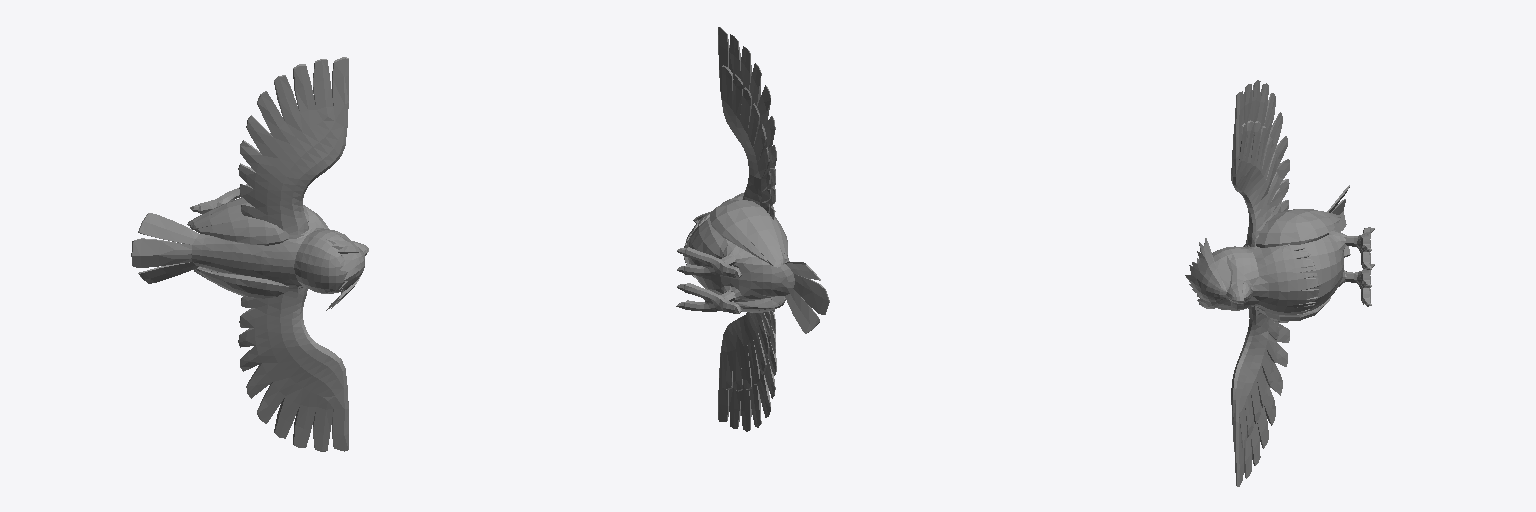
File: Pidgey.obj
3 views of the same model, side by side, from view 1: azimuth 30°, elevation 25°; view 2: azimuth 150°, elevation 25°; view 3: azimuth 270°, elevation 25° (orthographic).
Visible parts, largest first — view 1: Pidgey.002; view 2: Pidgey.002; view 3: Pidgey.002.
Part boxes in pixels (x1,y1,x2,y2): Pidgey.002: (131,57,368,451); Pidgey.002: (676,27,829,431); Pidgey.002: (1185,80,1374,486).
Bounding box in the file's own units: 86.58 × 176 × 76.93.